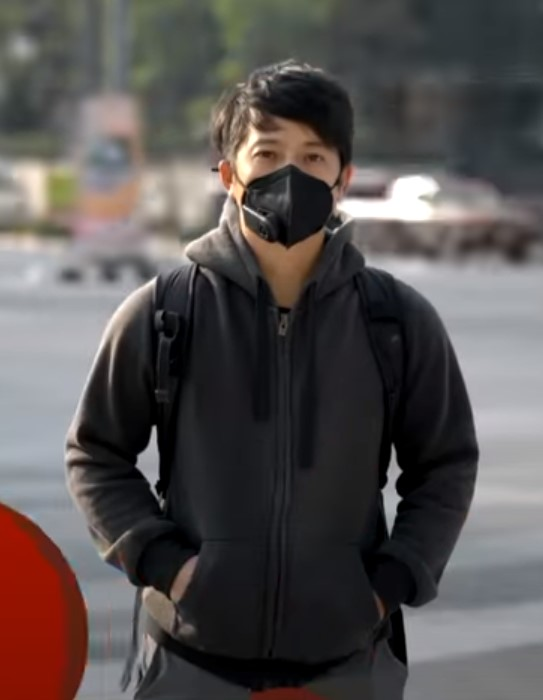face_with_mask: (218, 81, 351, 244)
